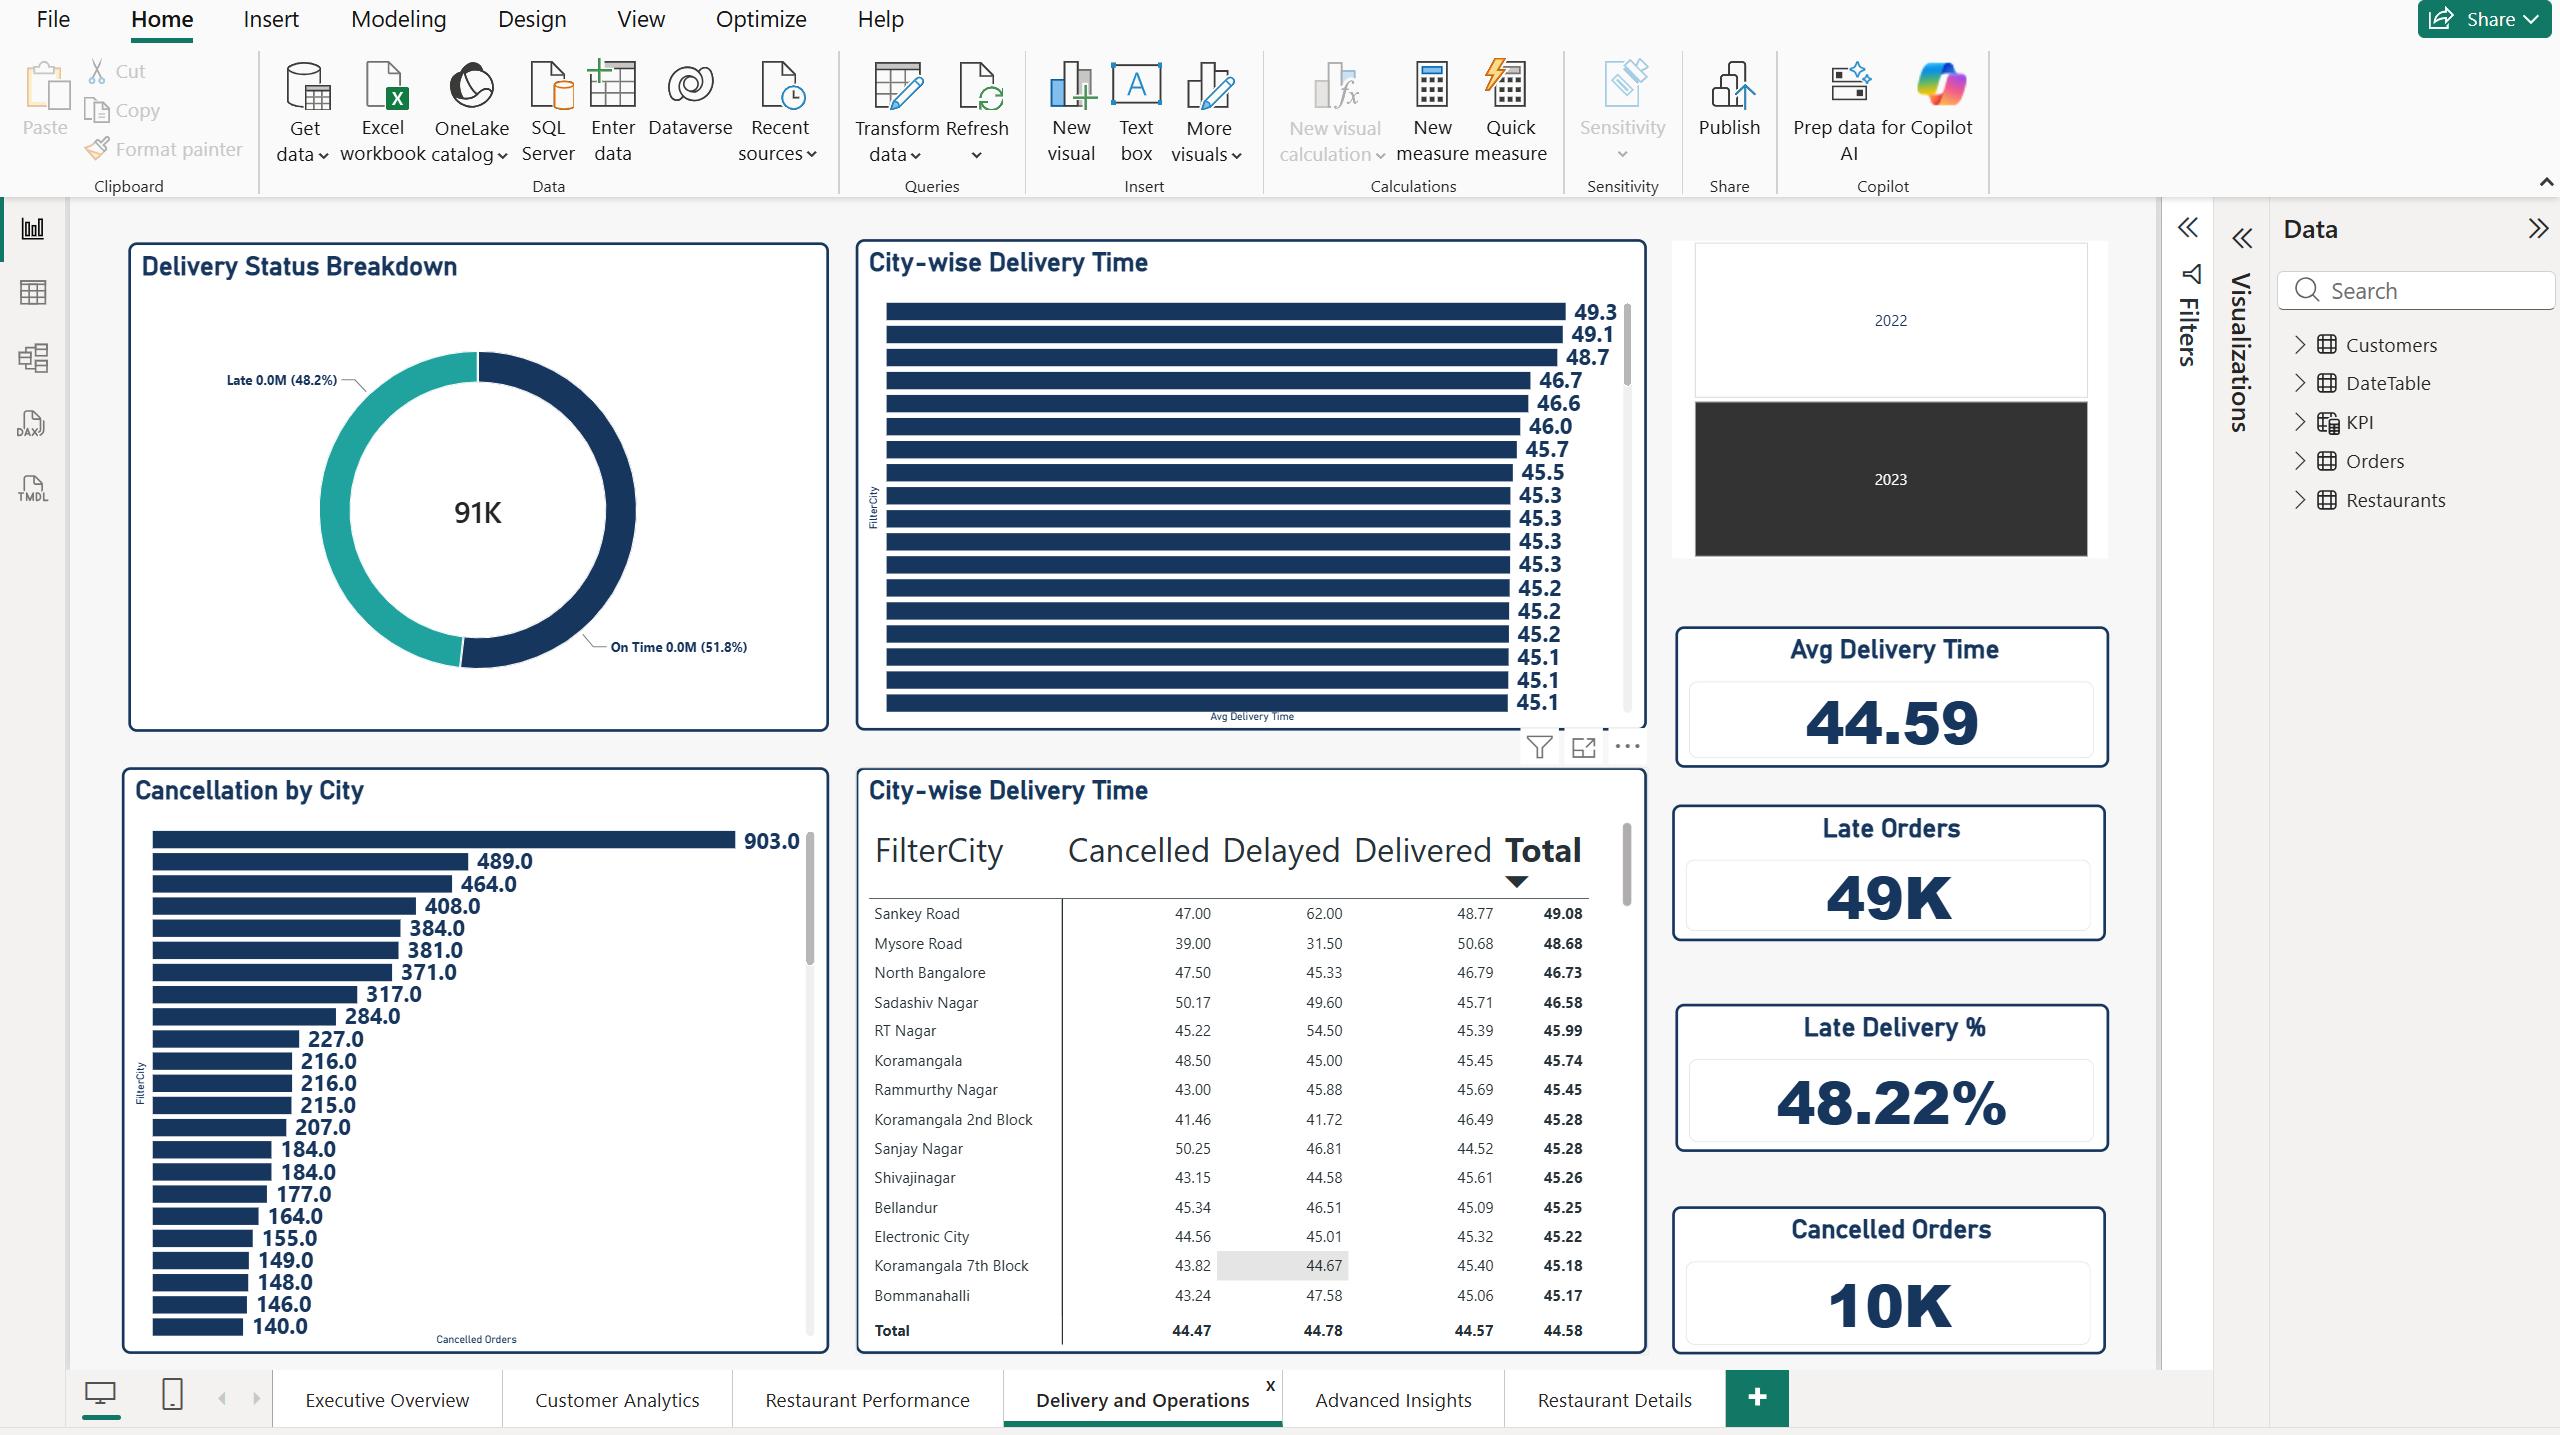

This screenshot's page, from the dashboard's own definition file:
{"tool":"powerbi","page":{"name":"Delivery and Operations","canvas":[1920,1080],"ordinal":3},"visuals":[{"type":"cardVisual","title":"Avg Delivery Time ","fields":{"Data":["Orders.Avg Delivery Time"]},"box":[1477.9,395.1,399.4,130.3],"z":0},{"type":"cardVisual","title":"Late Orders","fields":{"Data":["Orders.Late Orders"]},"box":[1475.7,559.5,399.4,126],"z":1000},{"type":"cardVisual","title":"Late Delivery %","fields":{"Data":["Orders.Late Delivery %"]},"box":[1477.9,743.2,399.4,136.7],"z":2000},{"type":"cardVisual","title":"Cancelled Orders","fields":{"Data":["Orders.Cancelled Orders"]},"box":[1475.7,929,399.4,136.7],"z":3000},{"type":"barChart","title":"City-wise Delivery Time","fields":{"Category":["Customers.FilterCity"],"Y":["Orders.Avg Delivery Time"]},"box":[724,38.4,728.3,452.8],"z":4000},{"type":"donutChart","title":"Delivery Status Breakdown","fields":{"Category":["Orders.Delivery Status"],"Y":["Orders.Total Orders"]},"box":[54,41.4,645,450.6],"z":5000},{"type":"barChart","title":"Cancellation by City","fields":{"Category":["Customers.FilterCity"],"Y":["Orders.Cancelled Orders"]},"box":[47,525.4,651.4,540.3],"z":6000},{"type":"pivotTable","title":"City-wise Delivery Time","fields":{"Columns":["Orders.OrderStatus"],"Rows":["Customers.FilterCity"],"Values":["Orders.Avg Delivery Time"]},"box":[724,525.4,728.3,540.3],"z":7000},{"type":"slicer","fields":{"Values":["Customers.SignupDate.Variation.Date Hierarchy.Year"]},"box":[1475.7,40.6,401.5,292.6],"z":8000}]}

Visuals, with their boxes on the page's 1920x1080 design canvas (x1, y1, x2, y2). These are canvas units, not pixel positions in the 2560x1435 screenshot, which may show the page scaled, cropped or inside an application window:
"Avg Delivery Time " cardVisual: region(1478, 395, 1877, 525)
"Late Orders" cardVisual: region(1476, 560, 1875, 686)
"Late Delivery %" cardVisual: region(1478, 743, 1877, 880)
"Cancelled Orders" cardVisual: region(1476, 929, 1875, 1066)
"City-wise Delivery Time" barChart: region(724, 38, 1452, 491)
"Delivery Status Breakdown" donutChart: region(54, 41, 699, 492)
"Cancellation by City" barChart: region(47, 525, 698, 1066)
"City-wise Delivery Time" pivotTable: region(724, 525, 1452, 1066)
slicer - Customers.SignupDate.Variation.Date Hierarchy.Year: region(1476, 41, 1877, 333)
